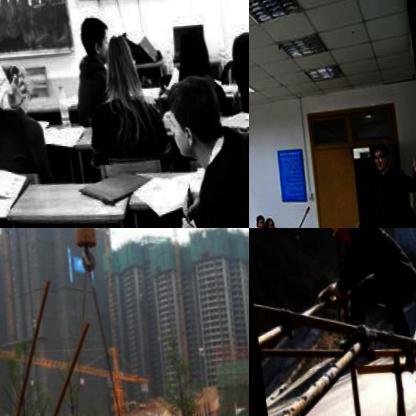head: (158, 70, 227, 164), (100, 29, 139, 88), (74, 11, 110, 66), (175, 27, 209, 80), (0, 56, 27, 111), (223, 30, 249, 82), (367, 142, 388, 171), (250, 210, 263, 228), (258, 215, 271, 228)
helmet: (318, 228, 360, 252)
